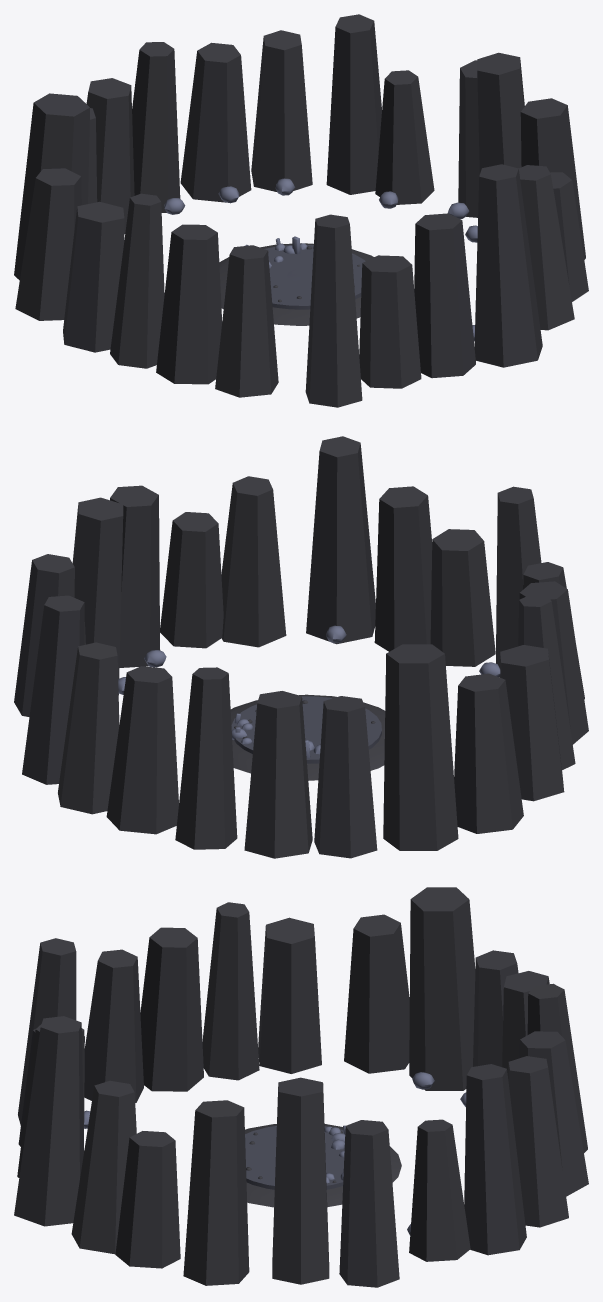
File: boulder_ram.glb
3 views of the same model, one above another, from view 1: azimuth 30°, elevation 25°; view 2: azimuth 150°, elevation 25°; view 3: azimuth 270°, elevation 25° (orthographic). The views are drawn at different scales.
Visible parts, largest first — view 1: BoulderRamGround; view 2: BoulderRamGround; view 3: BoulderRamGround.
Boxes of the visible parts, x1,y1,x2,y2 form: BoulderRamGround: (14, 14, 588, 407); BoulderRamGround: (14, 436, 588, 858); BoulderRamGround: (14, 887, 588, 1287).
Bounding box in the file's own units: 46.4 × 16.46 × 45.63.
Materials: 1 (1 with a texture image).
